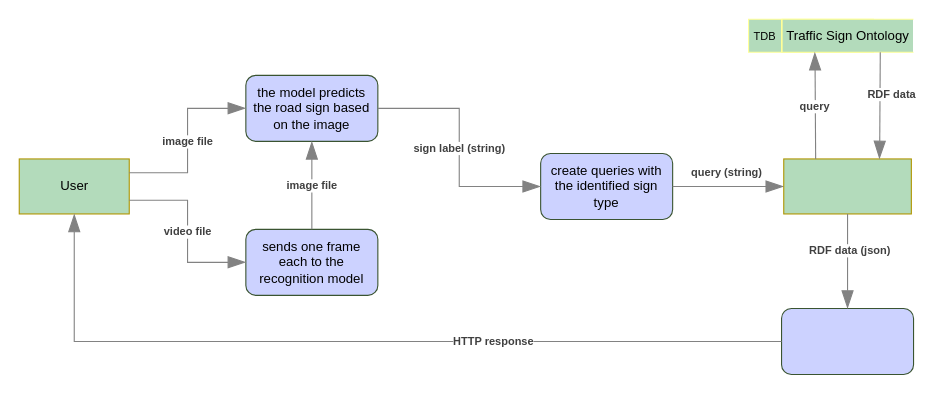
The diagram is 935 pixels wide and 394 high, and some of its shapes have lost their labels. The centre of each missing label's shape, as x and y in pixels:
"Apache Jena Fuseki" belongs at pixel 847 186.
"organize the data in a user friendly format" belongs at pixel 847 341.
